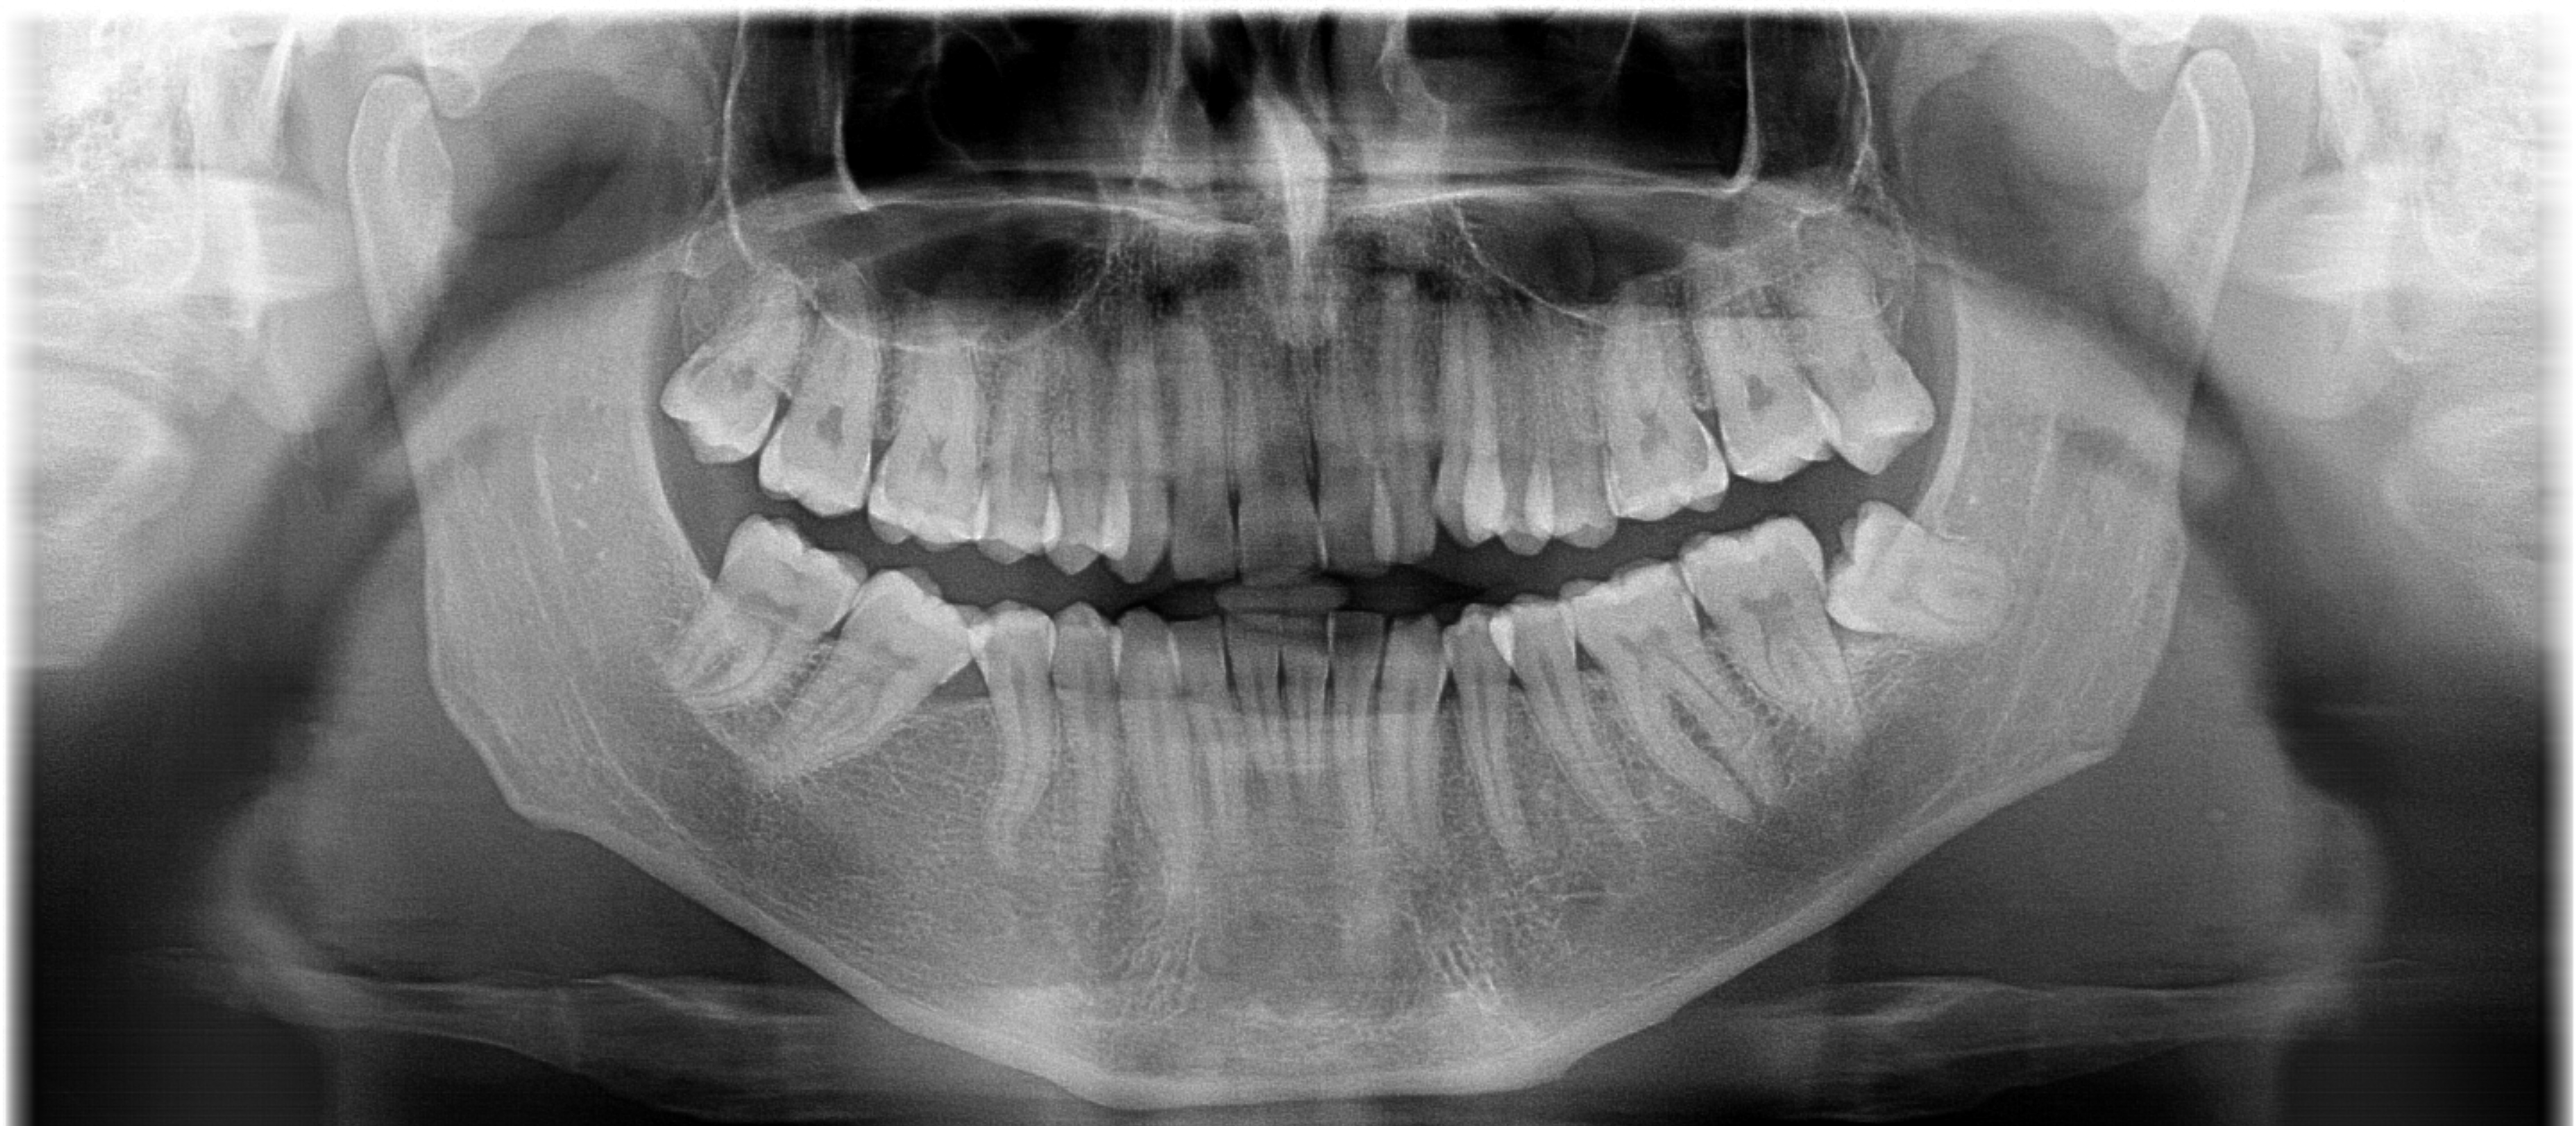cordal: (1809, 482, 2082, 672), (1774, 248, 1971, 482), (629, 252, 812, 482)
